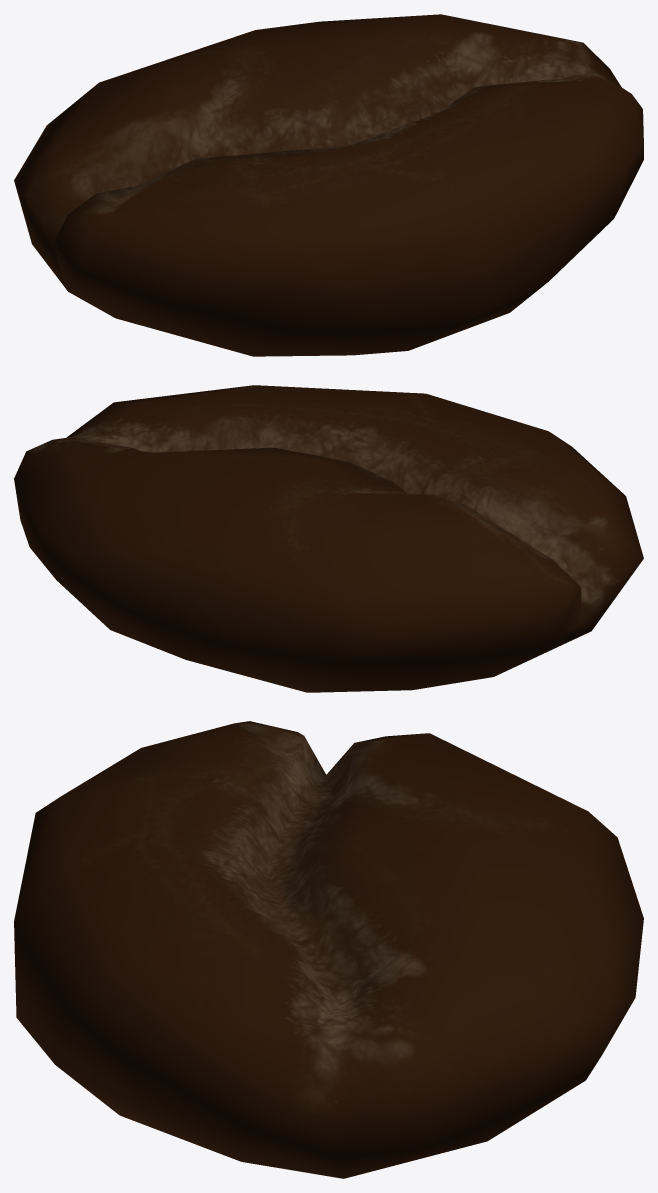
Rendered from Bean.glb.
3 views of the same model, one above another, from view 1: azimuth 30°, elevation 25°; view 2: azimuth 150°, elevation 25°; view 3: azimuth 270°, elevation 25° (orthographic). The views are drawn at different scales.
Parts seen in each view (by area): view 1: Object; view 2: Object; view 3: Object.
Boxes of the visible parts, x1,y1,x2,y2 form: Object: (14,14,643,356); Object: (14,385,643,692); Object: (14,721,643,1178).
Size of what is drawn, in the model's own units: 0.7158 by 0.2647 by 0.5387.
1 material, 1 textured.
